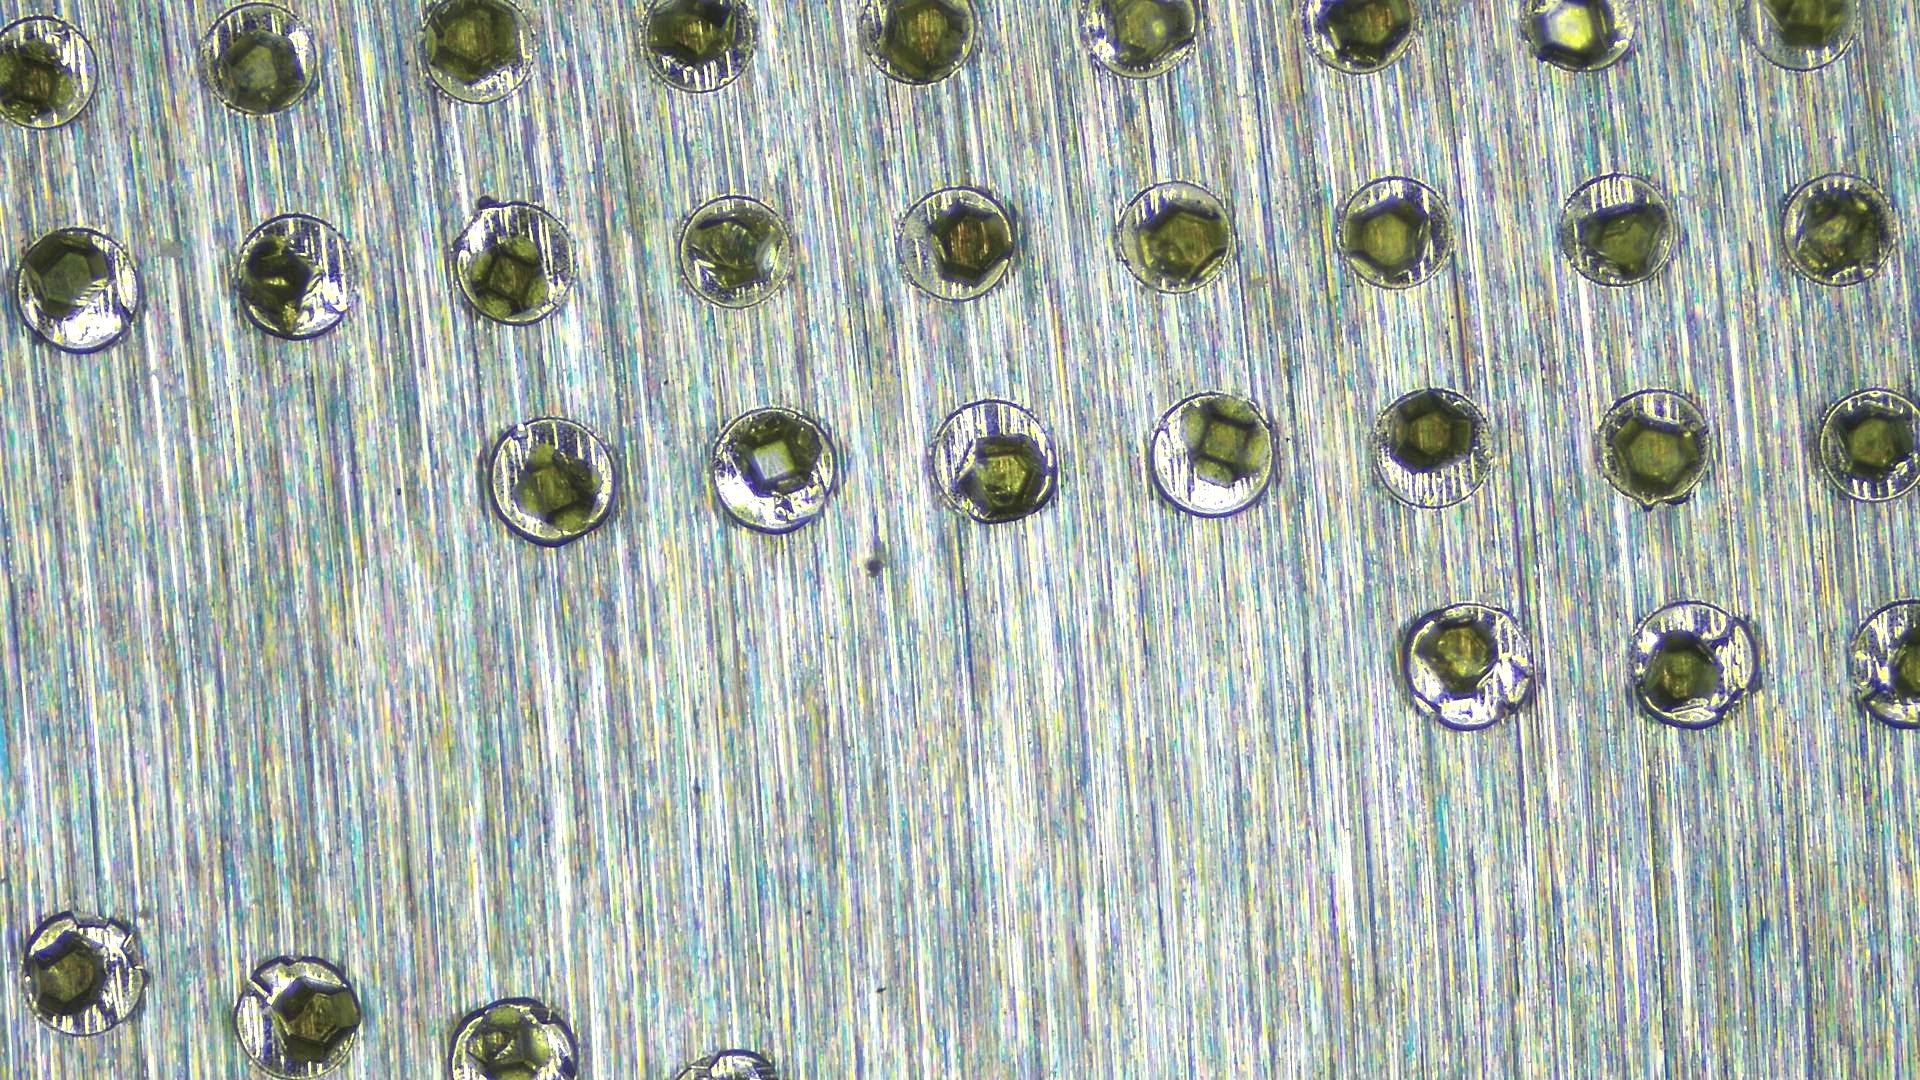miss: (230, 213, 360, 343)
